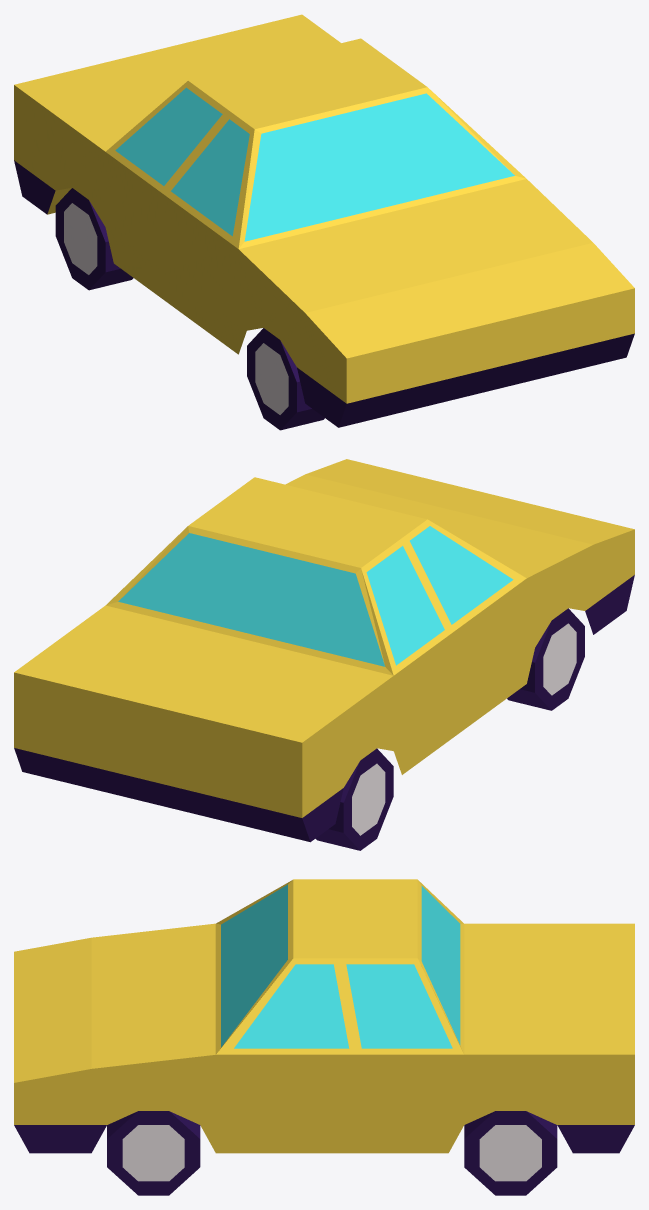
The model's file is car.obj.
3 views of the same model, one above another, from view 1: azimuth 30°, elevation 25°; view 2: azimuth 150°, elevation 25°; view 3: azimuth 270°, elevation 25° (orthographic). The views are drawn at different scales.
Visible parts, largest first — view 1: Cube, Cylinder.002, Cylinder; view 2: Cube, Cylinder.002, Cylinder; view 3: Cube, Cylinder.003, Cylinder.001.
Boxes of the visible parts, bbox=[...] form: Cube: bbox=[14, 14, 634, 427]; Cylinder.002: bbox=[55, 188, 133, 290]; Cylinder: bbox=[247, 328, 324, 430]; Cube: bbox=[14, 459, 634, 842]; Cylinder.002: bbox=[315, 748, 393, 850]; Cylinder: bbox=[507, 608, 584, 710]; Cube: bbox=[14, 879, 634, 1153]; Cylinder.003: bbox=[464, 1111, 557, 1195]; Cylinder.001: bbox=[107, 1111, 200, 1195].
Size of the model in its own units: 2 by 1.5 by 4.
